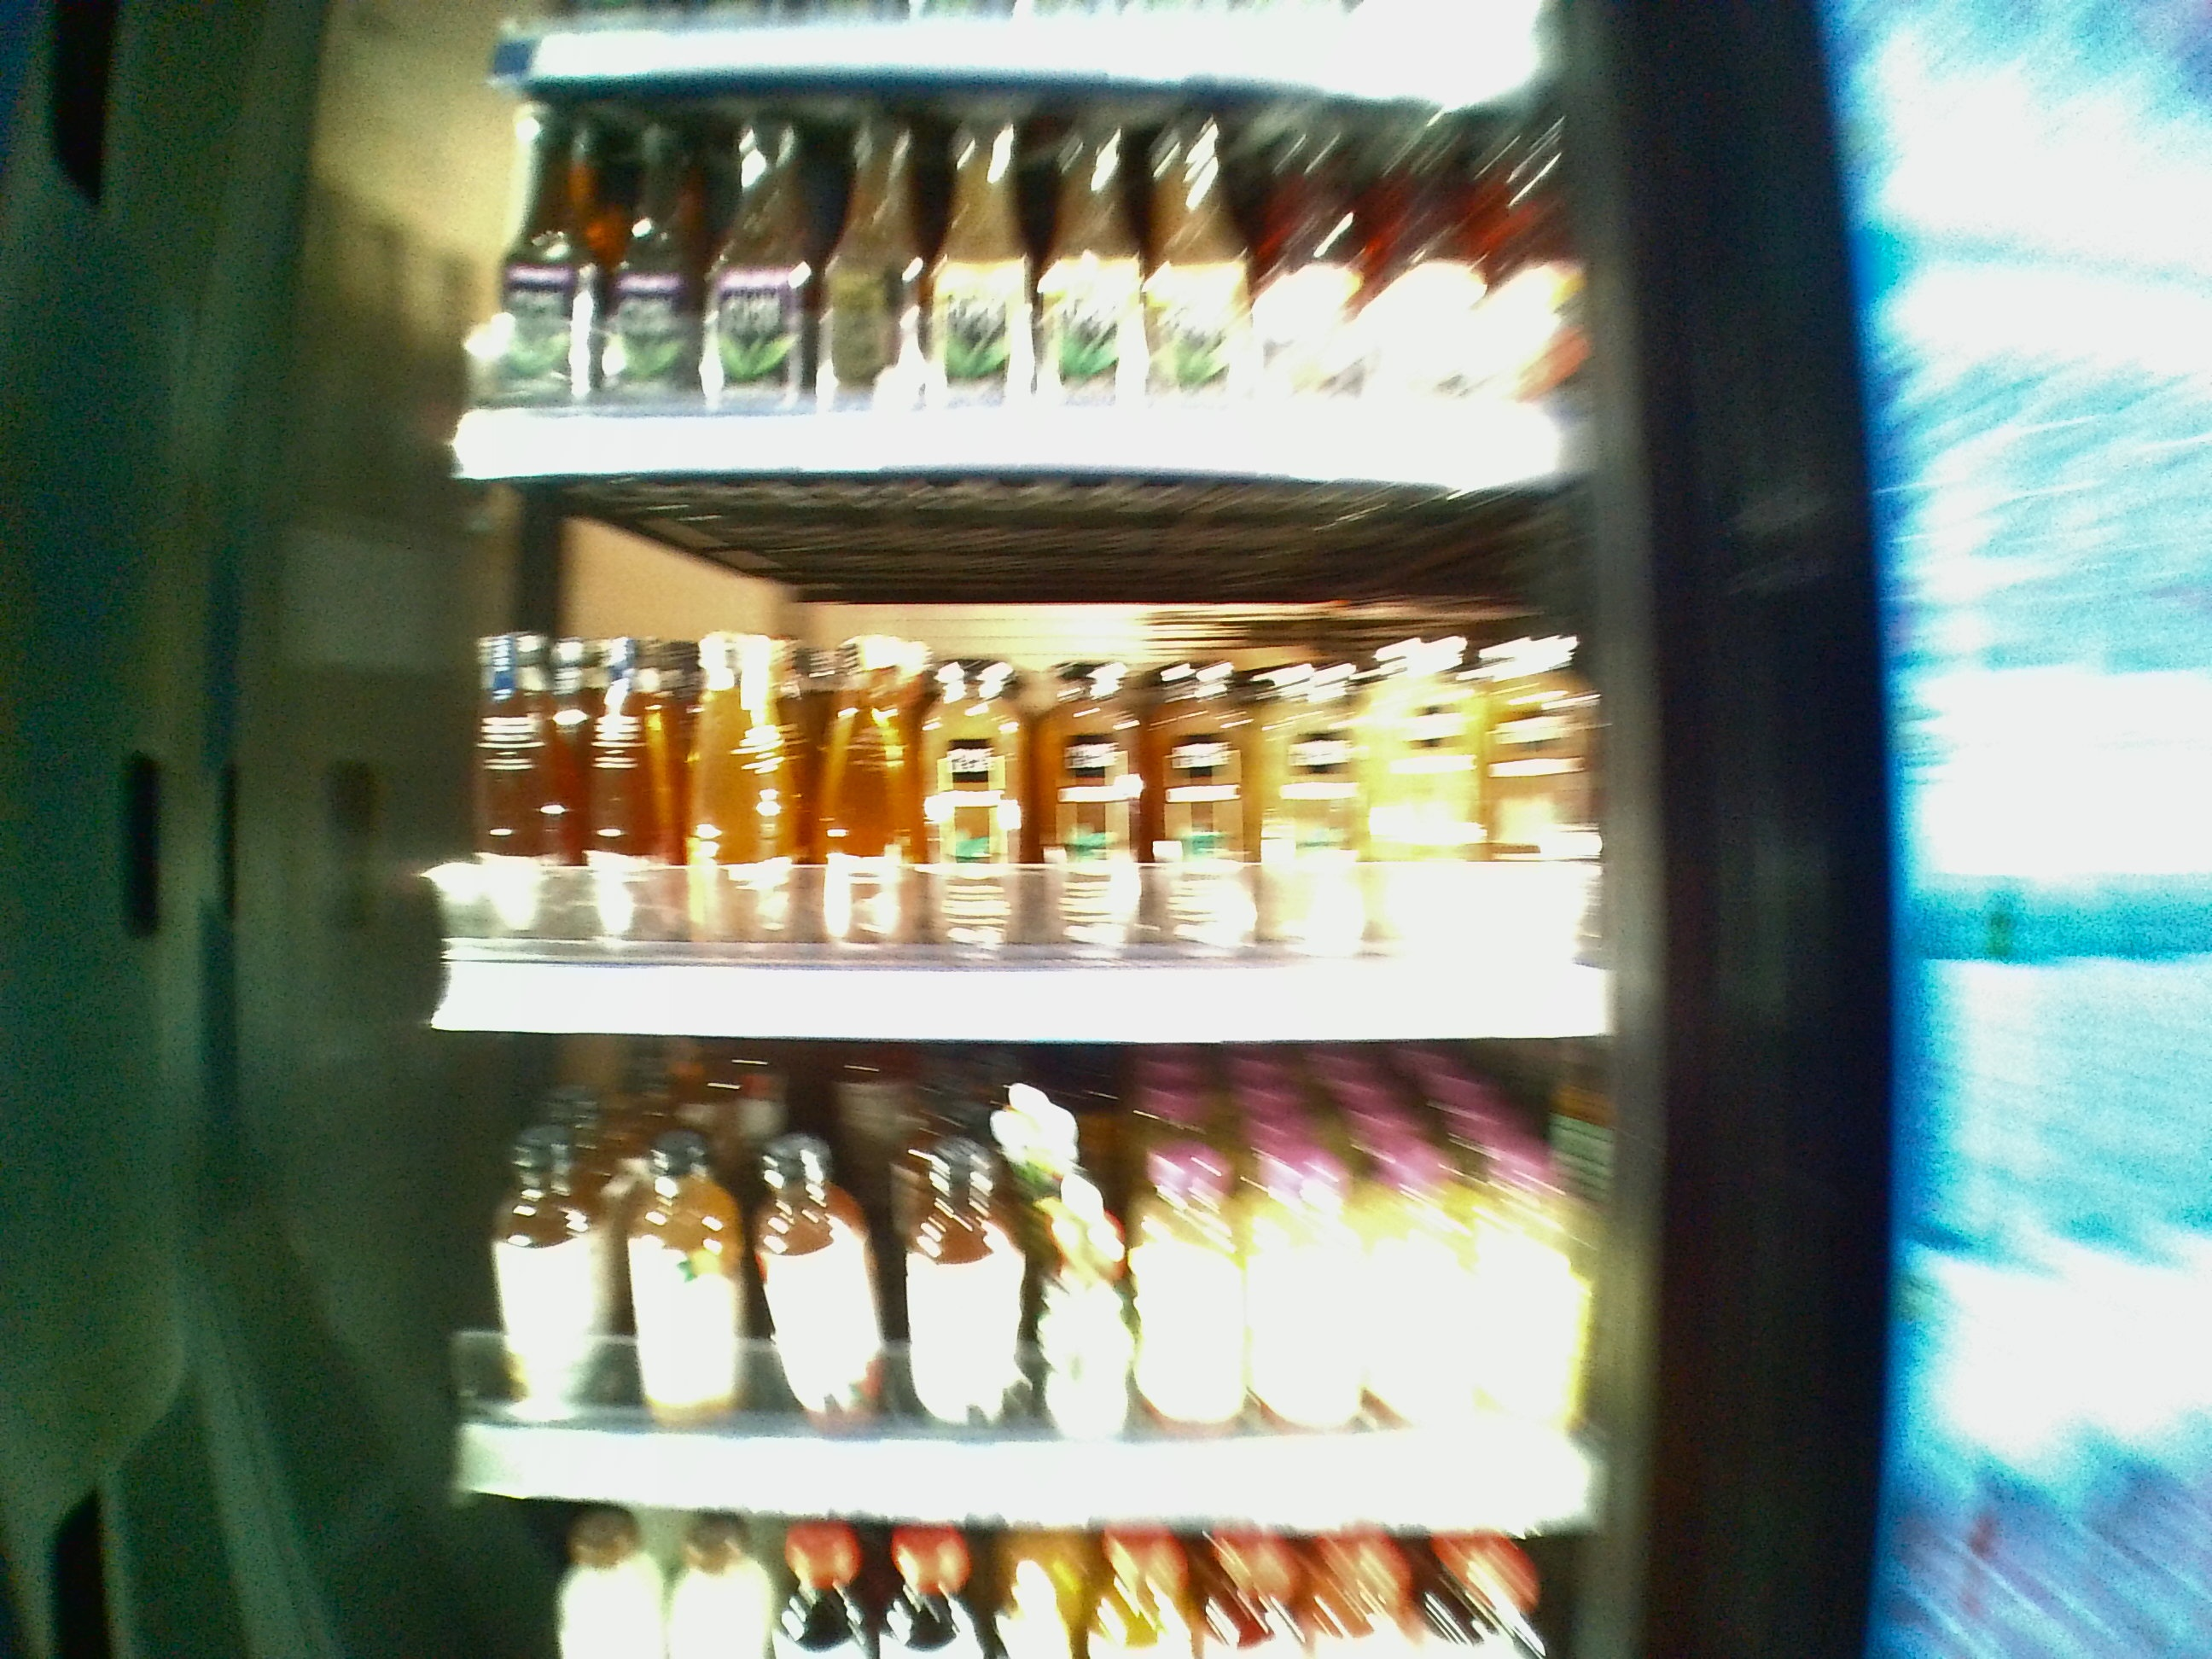shelf: (428, 495, 1595, 1028), (428, 1047, 1622, 1521), (455, 84, 1578, 486)
